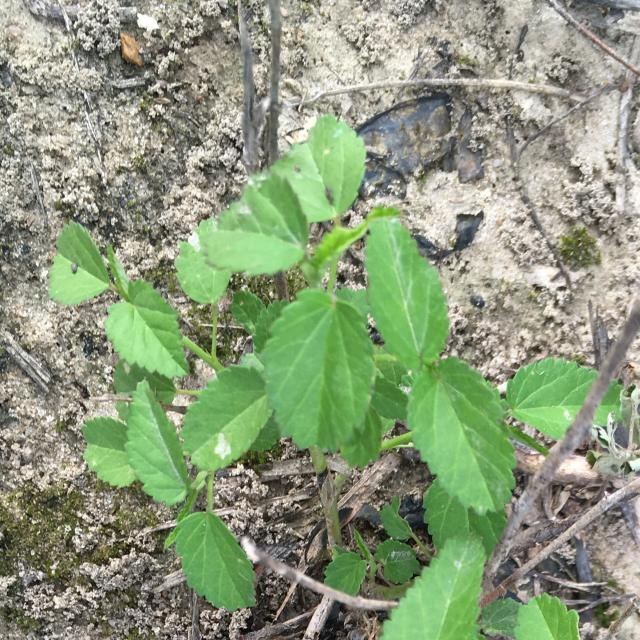PricklySida: (48, 114, 624, 640)
